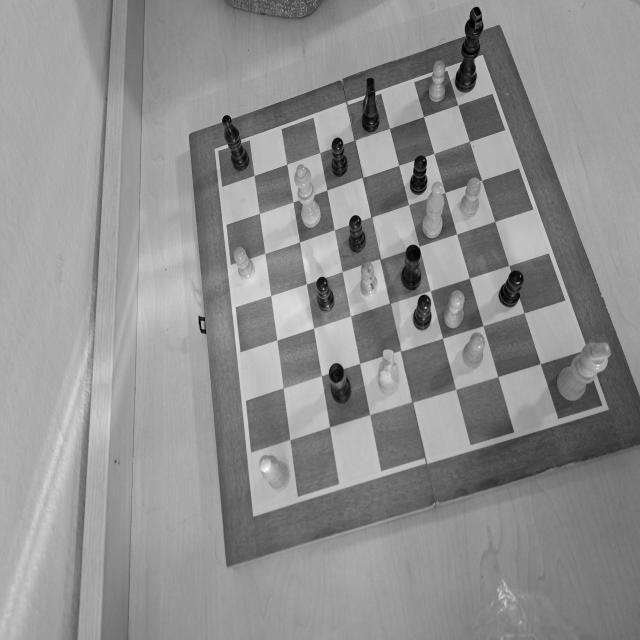chess-table-corners: (246, 496, 270, 521), (591, 394, 612, 417), (471, 50, 489, 70), (210, 143, 227, 160)
